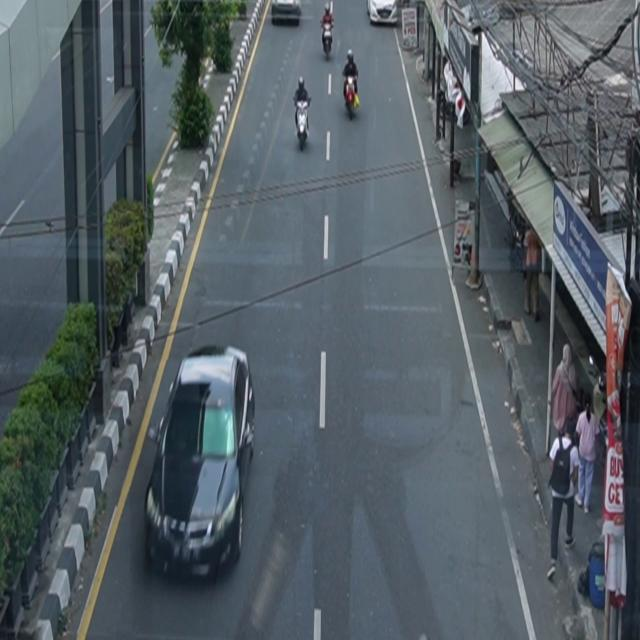car: (145, 344, 256, 584), (367, 1, 398, 26), (272, 1, 302, 26)
